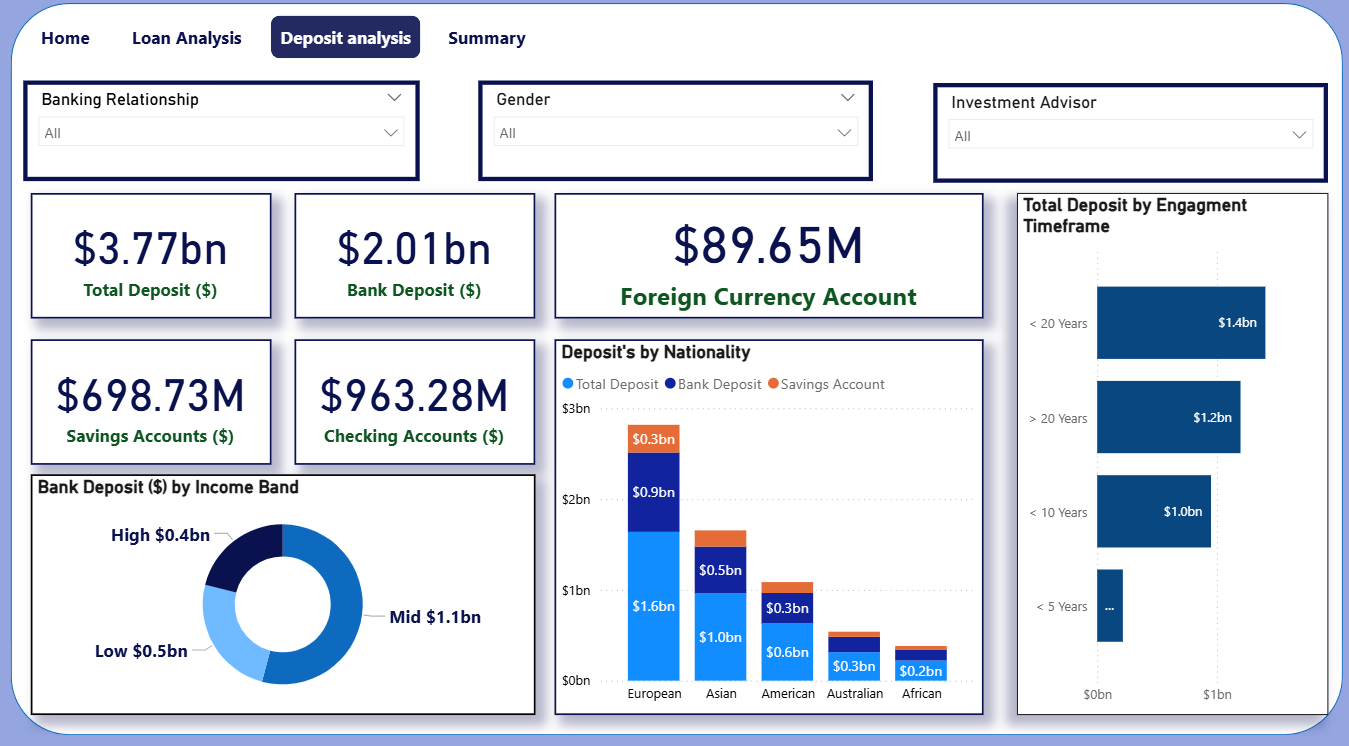

Layout of this report page (visuals, bound fields, positions):
{"tool":"powerbi","page":{"name":"Deposit Analysis ","canvas":[1280,720],"ordinal":2},"visuals":[{"type":"shape","box":[21.7,18.8,1239.2,681.1],"z":0},{"type":"actionButton","box":[125.6,29.9,120.7,39.8],"z":1000},{"type":"actionButton","box":[419.2,29.9,90.8,39.8],"z":2000},{"type":"actionButton","box":[265.1,30.2,137.2,39.5],"z":3000},{"type":"actionButton","box":[41.1,29.9,64.7,39.8],"z":4000},{"type":"slicer","fields":{"Values":["Banking Relationship.Banking Relationship"]},"box":[33.3,91.1,368.7,94],"z":6000},{"type":"slicer","fields":{"Values":["Gender.Gender"]},"box":[456.9,91.1,367.3,94],"z":7000},{"type":"slicer","fields":{"Values":["Investment Advisor.Investment Advisor"]},"box":[880.6,92.5,367.3,92.5],"z":8000},{"type":"card","fields":{"Values":["Dax Measures.Total Deposit"]},"box":[41.1,195.3,223.9,116.9],"z":9000},{"type":"card","fields":{"Values":["Dax Measures.Bank Deposit"]},"box":[286.1,195.3,223.9,116.9],"z":10000},{"type":"card","fields":{"Values":["Dax Measures.Savings Account"]},"box":[41.1,330.9,223.9,116.9],"z":11000},{"type":"card","fields":{"Values":["Dax Measures.Checking Accounts"]},"box":[286.1,330.9,223.9,116.9],"z":12000},{"type":"donutChart","title":"Bank Deposit ($) by Income Band","fields":{"Category":["Banking.Income Band"],"Y":["Dax Measures.Bank Deposit"]},"box":[40.5,456.9,470,224.1],"z":13000},{"type":"card","title":"Bank Loan by Banking Relationship ($)","fields":{"Values":["Dax Measures.Foreign Currency Account"]},"box":[527.8,195.2,399.1,117.1],"z":14000},{"type":"columnChart","title":"Deposit''s by Nationality ","fields":{"Category":["Banking.Nationality"],"Y":["Dax Measures.Total Deposit","Dax Measures.Bank Deposit","Dax Measures.Savings Account"]},"box":[527.8,331.1,399.1,349.9],"z":15000},{"type":"clusteredBarChart","fields":{"Category":["Banking.Engagment Timeframe"],"Y":["Dax Measures.Total Deposit"]},"box":[958.7,195.2,289.2,485.9],"z":16000}]}

Visuals, with their boxes in screenshot pixels (x1, y1, x2, y2), scaled from the page's 1280x720 canvas onto the 1349x746 screenshot:
shape: bbox(23, 19, 1329, 725)
actionButton: bbox(132, 31, 260, 72)
actionButton: bbox(442, 31, 537, 72)
actionButton: bbox(279, 31, 424, 72)
actionButton: bbox(43, 31, 112, 72)
slicer - Banking Relationship.Banking Relationship: bbox(35, 94, 424, 192)
slicer - Gender.Gender: bbox(482, 94, 869, 192)
slicer - Investment Advisor.Investment Advisor: bbox(928, 96, 1315, 192)
card - Dax Measures.Total Deposit: bbox(43, 202, 279, 323)
card - Dax Measures.Bank Deposit: bbox(302, 202, 537, 323)
card - Dax Measures.Savings Account: bbox(43, 343, 279, 464)
card - Dax Measures.Checking Accounts: bbox(302, 343, 537, 464)
"Bank Deposit ($) by Income Band" donutChart: bbox(43, 473, 538, 706)
"Bank Loan by Banking Relationship ($)" card: bbox(556, 202, 977, 324)
"Deposit''s by Nationality " columnChart: bbox(556, 343, 977, 706)
clusteredBarChart - Banking.Engagment Timeframe x Dax Measures.Total Deposit: bbox(1010, 202, 1315, 706)
